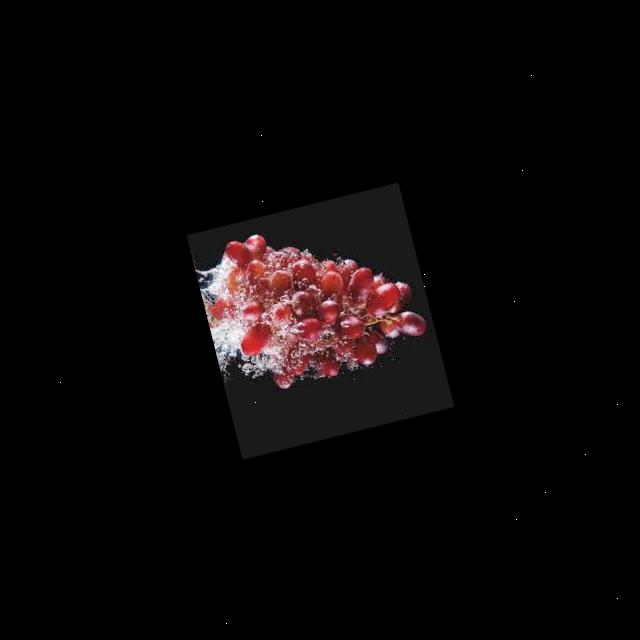grape: (190, 198, 433, 402)
